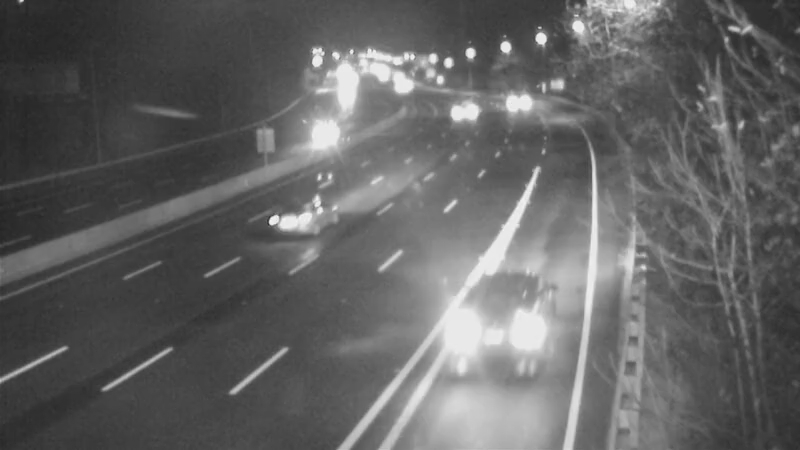vehicle: (439, 280, 549, 390), (251, 182, 331, 262), (483, 76, 533, 126), (438, 81, 488, 131), (299, 113, 349, 163)
